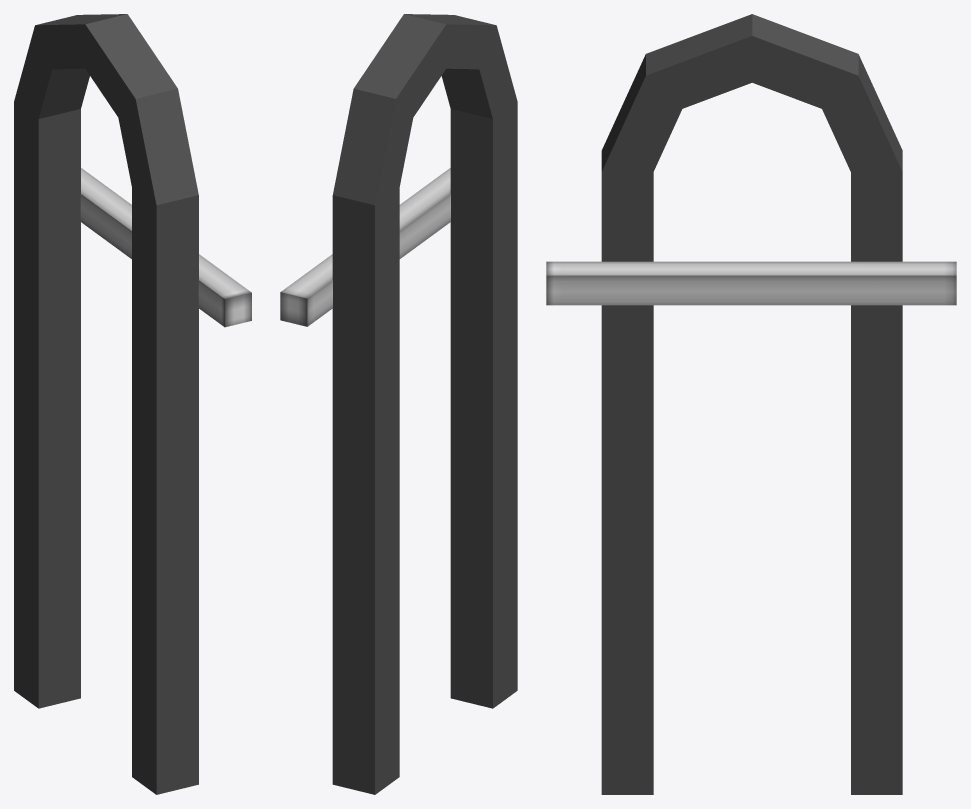
File: Constructions-01.fbx
3 renders of one model, left to right at view 1: azimuth 30°, elevation 25°; view 2: azimuth 150°, elevation 25°; view 3: azimuth 270°, elevation 25°, orthographic. The views are drawn at different scales.
Parts seen in each view (by area): view 1: Constructions_01; view 2: Constructions_01; view 3: Constructions_01.
Boxes of the visible parts, <box> form: Constructions_01: <box>14,14,251,794</box>; Constructions_01: <box>280,14,517,794</box>; Constructions_01: <box>546,14,956,794</box>.
Size of the model in its own units: 0.2136 by 2.12 by 1.04.
